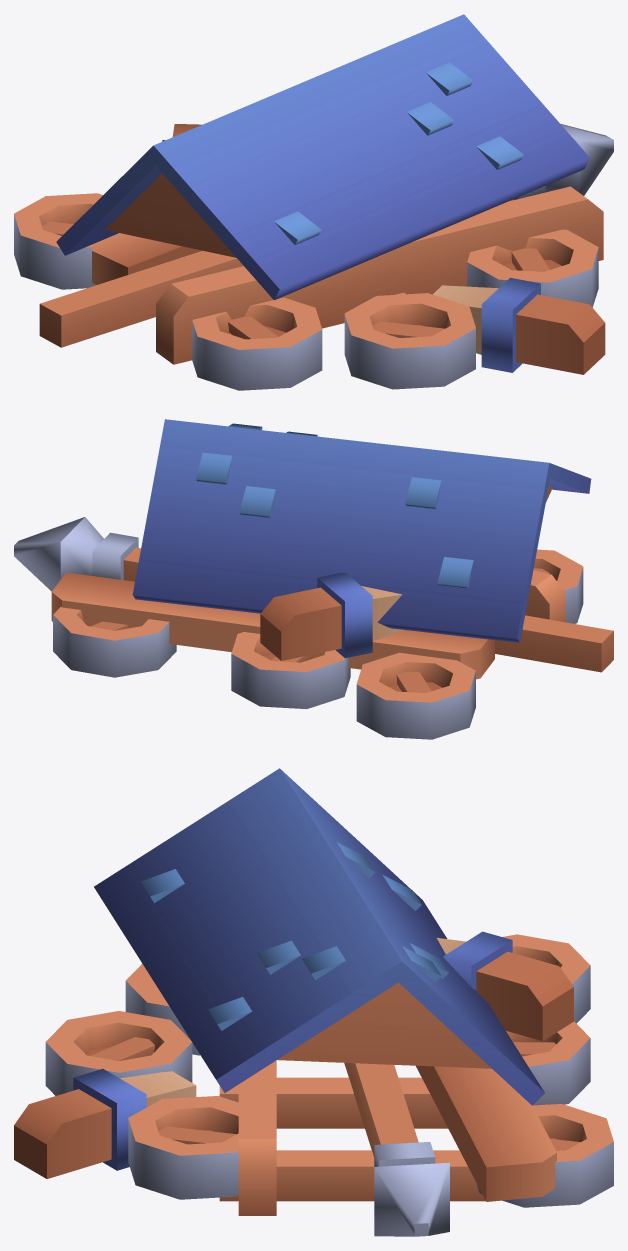
The model's file is siege-ram-demolished.obj.
3 renders of one model, top to bottom at view 1: azimuth 30°, elevation 25°; view 2: azimuth 150°, elevation 25°; view 3: azimuth 270°, elevation 25°, orthographic. The views are drawn at different scales.
Visible parts, largest first — view 1: siege-ram-demolished; view 2: siege-ram-demolished; view 3: siege-ram-demolished.
Part boxes in pixels (<box>): siege-ram-demolished: <box>14,14,613,390</box>; siege-ram-demolished: <box>14,419,613,739</box>; siege-ram-demolished: <box>14,768,613,1236</box>.
Bounding box in the file's own units: 2.08 × 0.7231 × 1.65.
1 material, 1 textured.
